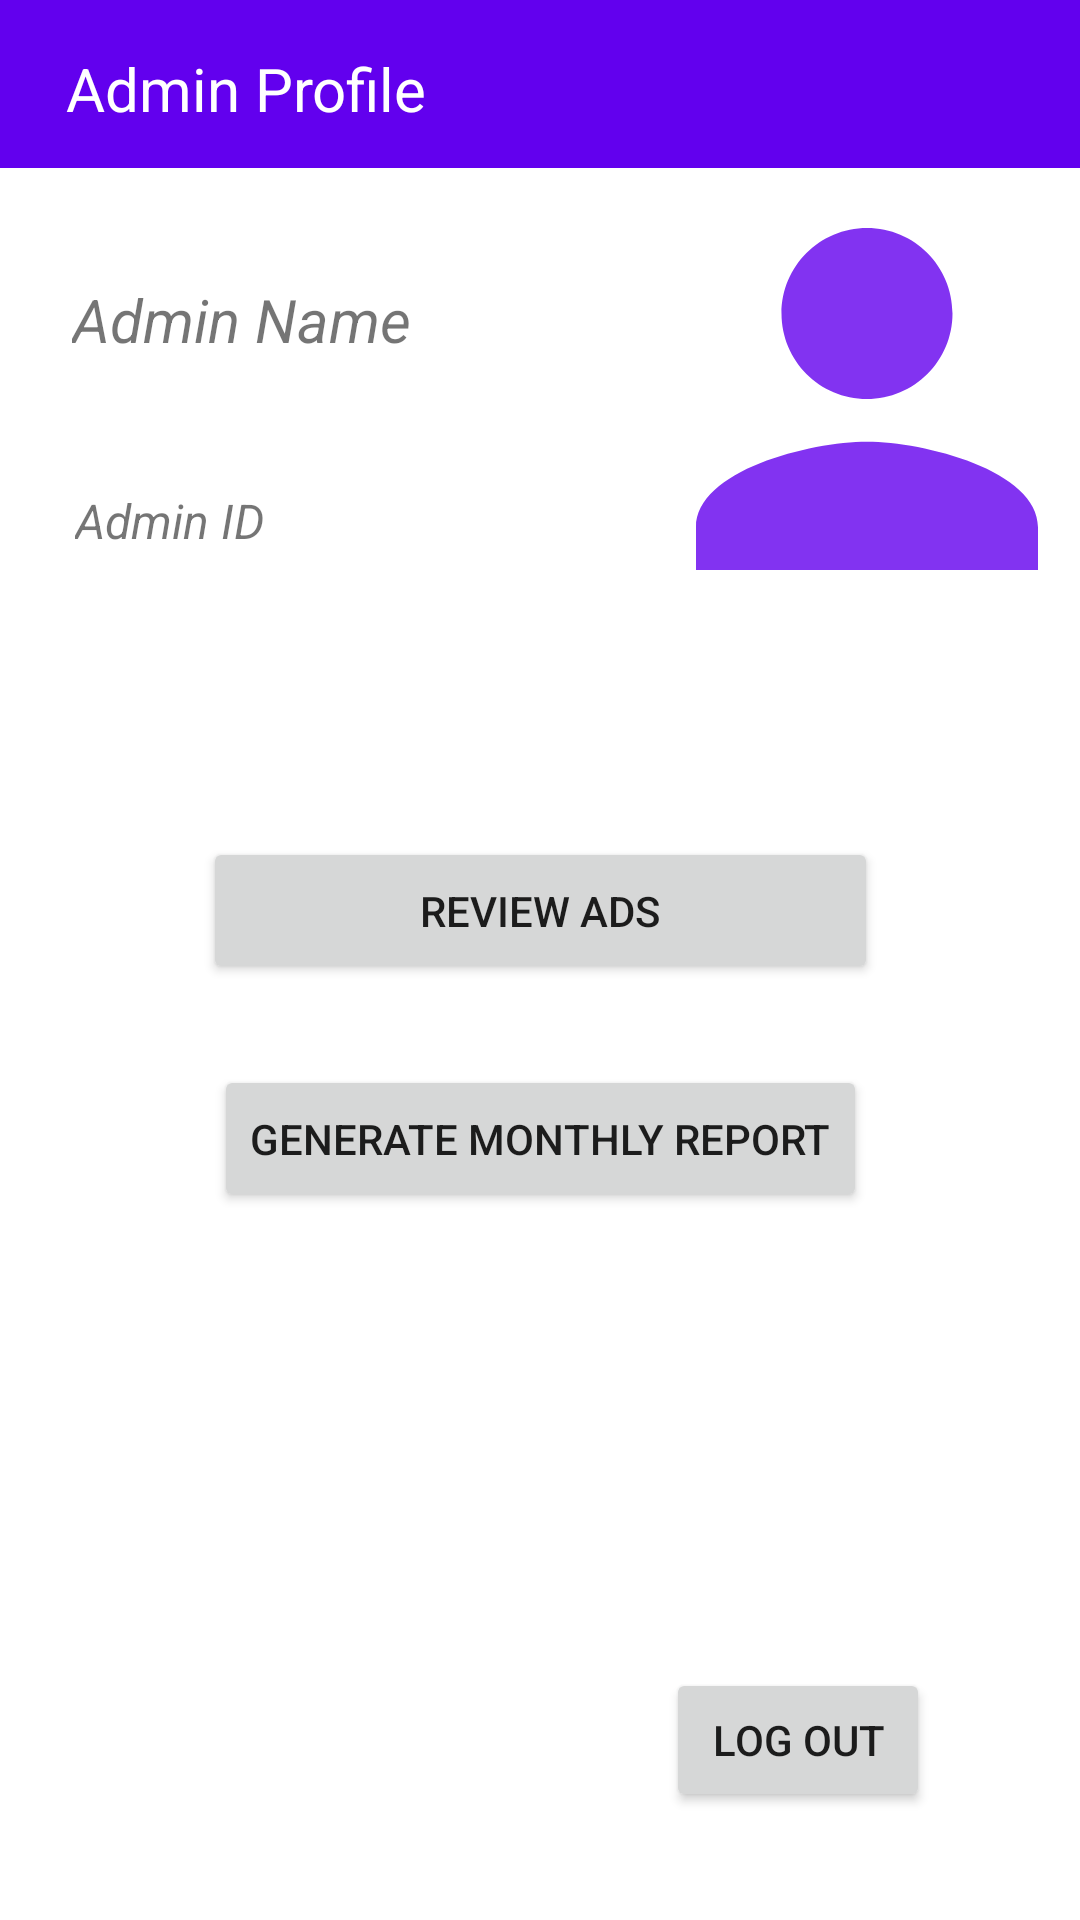

Where to tap for icons on this 1080×1920 app screen, as (x=x, y=y):
profiletemp: (x=867, y=399)
